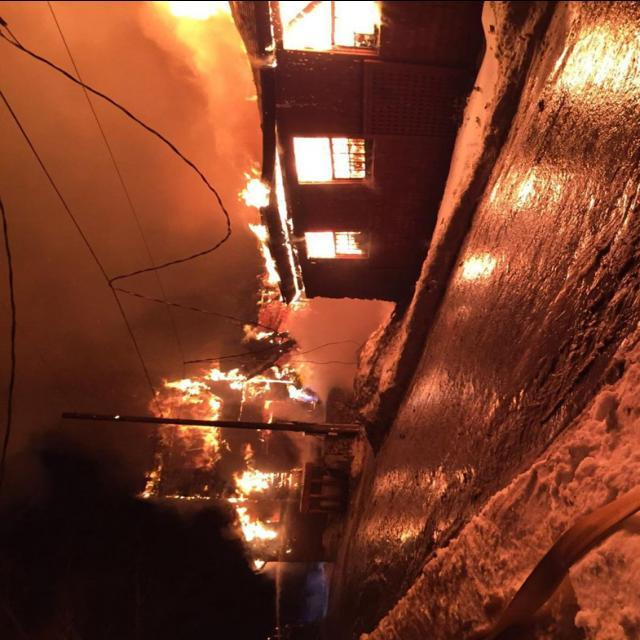Fire: (124, 1, 390, 574)
